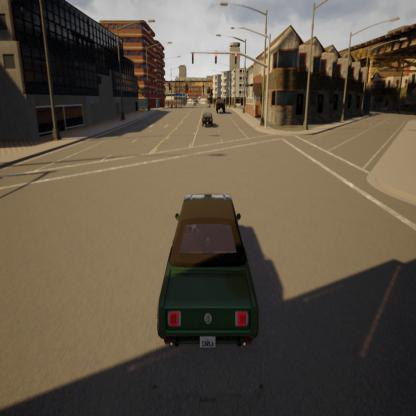Cars: (159, 192, 258, 350), (215, 96, 226, 116), (202, 111, 212, 129)
